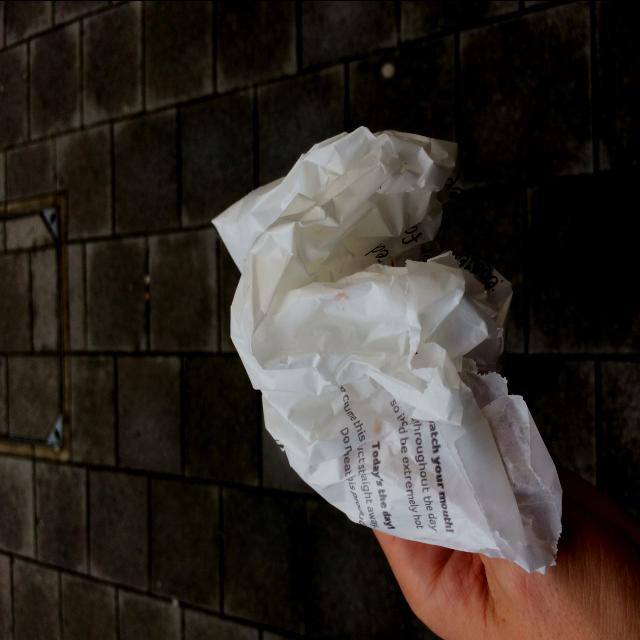Paper bag: (214, 125, 563, 573)
